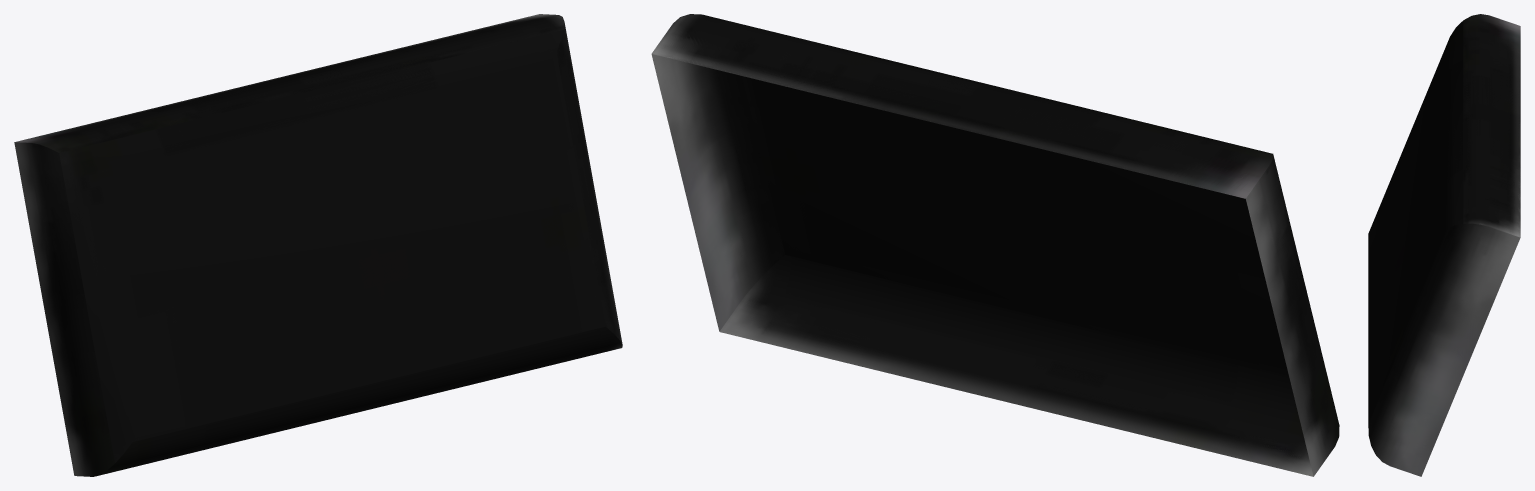
Rendered from link_3__button-4.glb.
3 views of the same model, side by side, from view 1: azimuth 30°, elevation 25°; view 2: azimuth 150°, elevation 25°; view 3: azimuth 270°, elevation 25° (orthographic). The views are drawn at different scales.
Visible parts, largest first — view 1: geometry_0; view 2: geometry_0; view 3: geometry_0.
Part boxes in pixels (bbox=[...]): geometry_0: bbox=[14, 14, 622, 476]; geometry_0: bbox=[651, 14, 1339, 476]; geometry_0: bbox=[1368, 14, 1520, 476].
Bounding box in the file's own units: 0.0354 × 0.0197 × 0.0108.
1 material, 1 textured.
